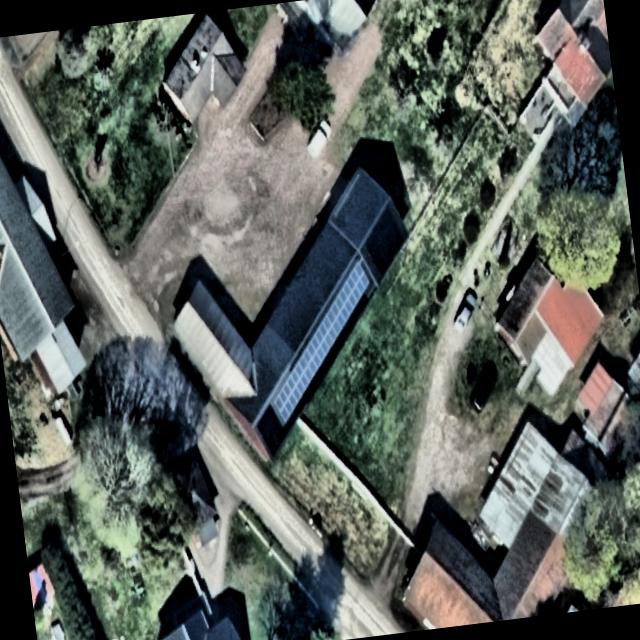roof_pv: (320, 288, 360, 360), (267, 364, 308, 429), (293, 325, 331, 391), (339, 252, 376, 314)
